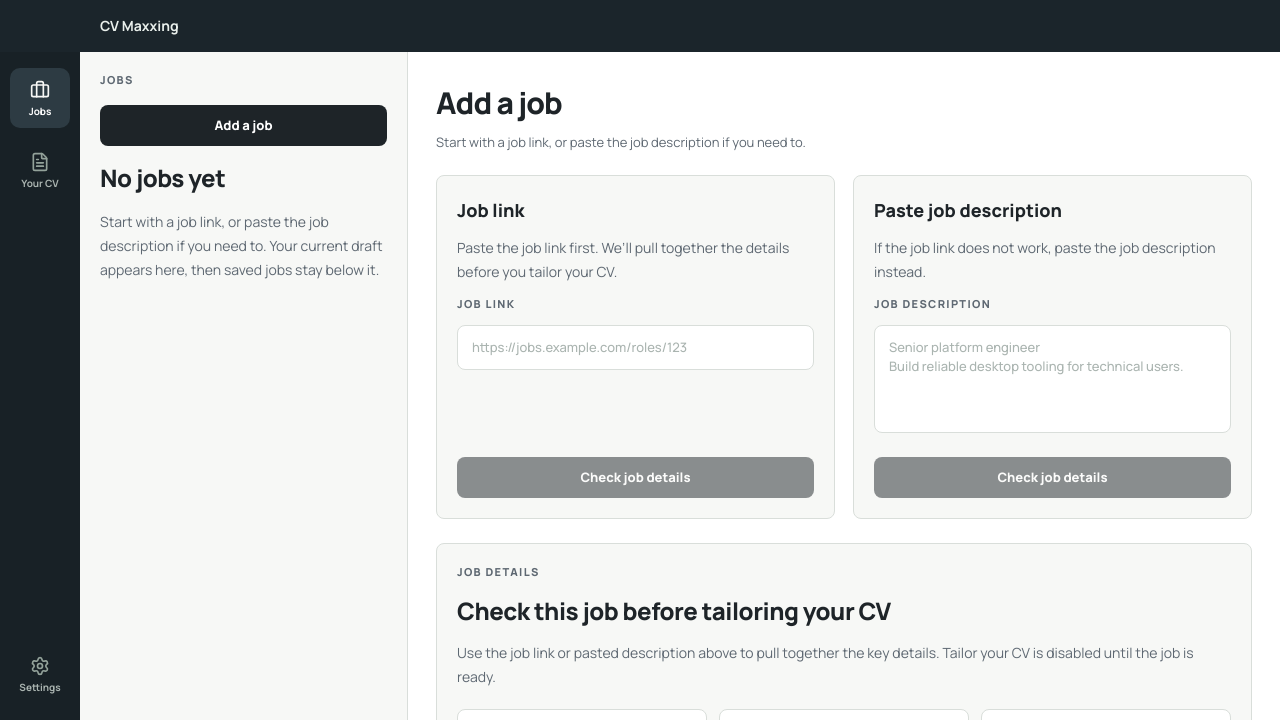
it: shows a shared Your CV alert when saving the selected rail item fails
Expected: the heading "Add a job" is shown, [436,82,562,123]
Click the button "Your CV" at [40, 170], box [10,140,70,200]
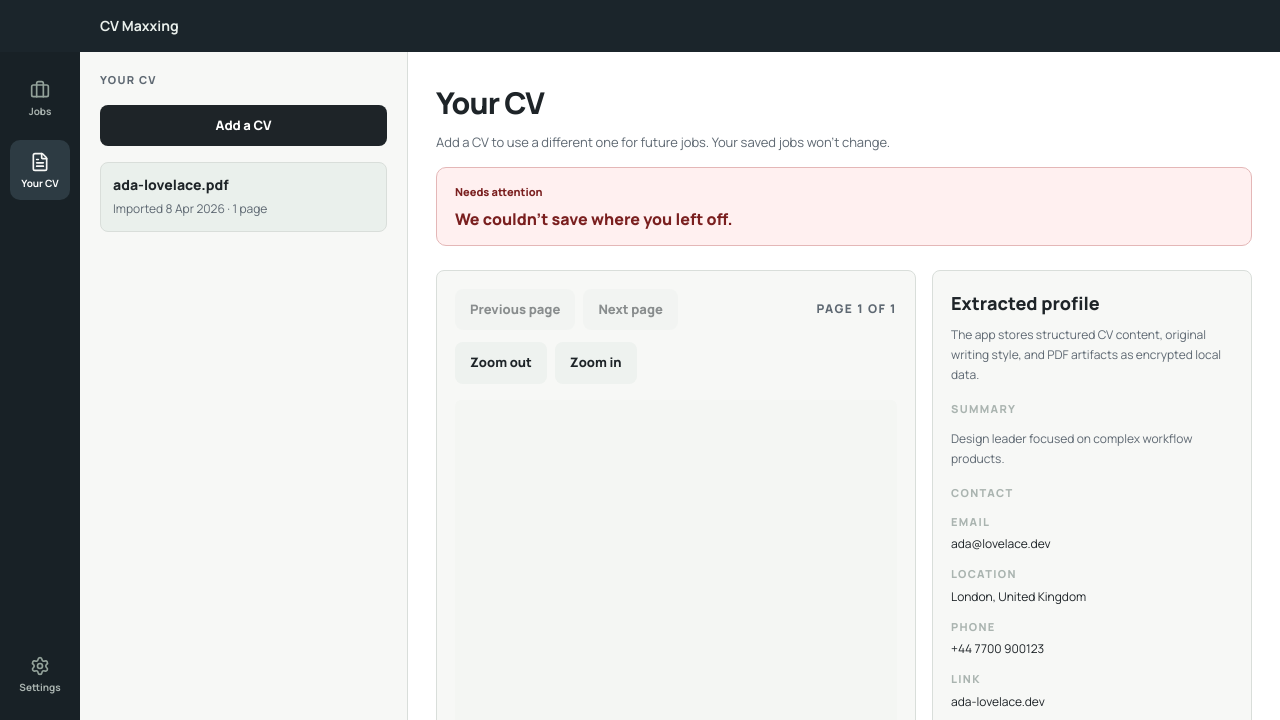
Expected: the heading "Your CV" is shown, [436,82,544,123]
Expected: the message "Needs attention We couldn't save where you left off." is shown, [436,167,1252,246]
Expected: the text "We couldn't save where you left off." is shown once, [455,208,732,230]
